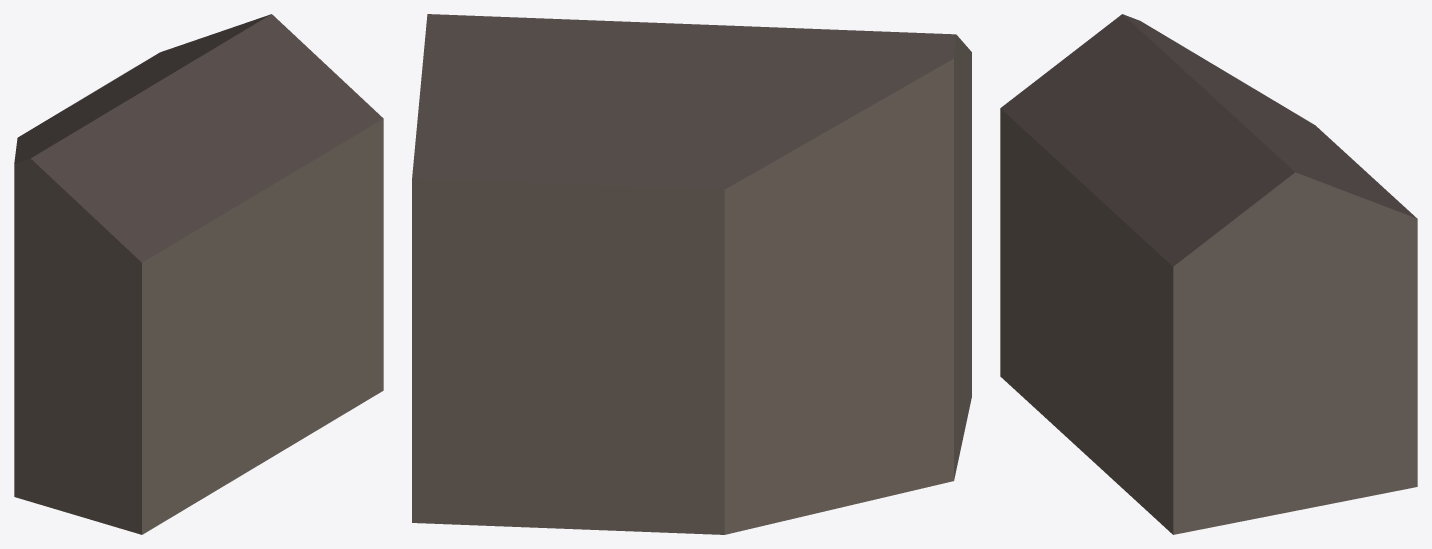
The picture shows the model from 3 angles, left to right: view 1: azimuth 30°, elevation 25°; view 2: azimuth 150°, elevation 25°; view 3: azimuth 270°, elevation 25°; orthographic projection. The views are drawn at different scales.
Visible parts, largest first — view 1: HP-w1197353244; view 2: HP-w1197353244; view 3: HP-w1197353244.
Part boxes in pixels (box(x1,y1,x2,y2)): HP-w1197353244: box(14, 14, 383, 534); HP-w1197353244: box(412, 14, 971, 534); HP-w1197353244: box(1000, 14, 1417, 534).
Size of the model in its own units: 8.92 by 7.58 by 8.46.
